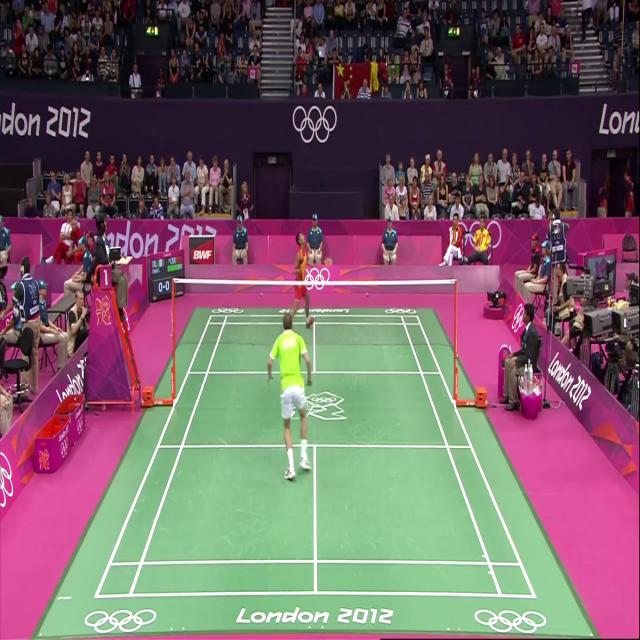Net: (172, 278, 461, 347)
Player1: (261, 306, 321, 482)
Player2: (285, 223, 322, 341)
Shuttlecock: (314, 44, 326, 59)
